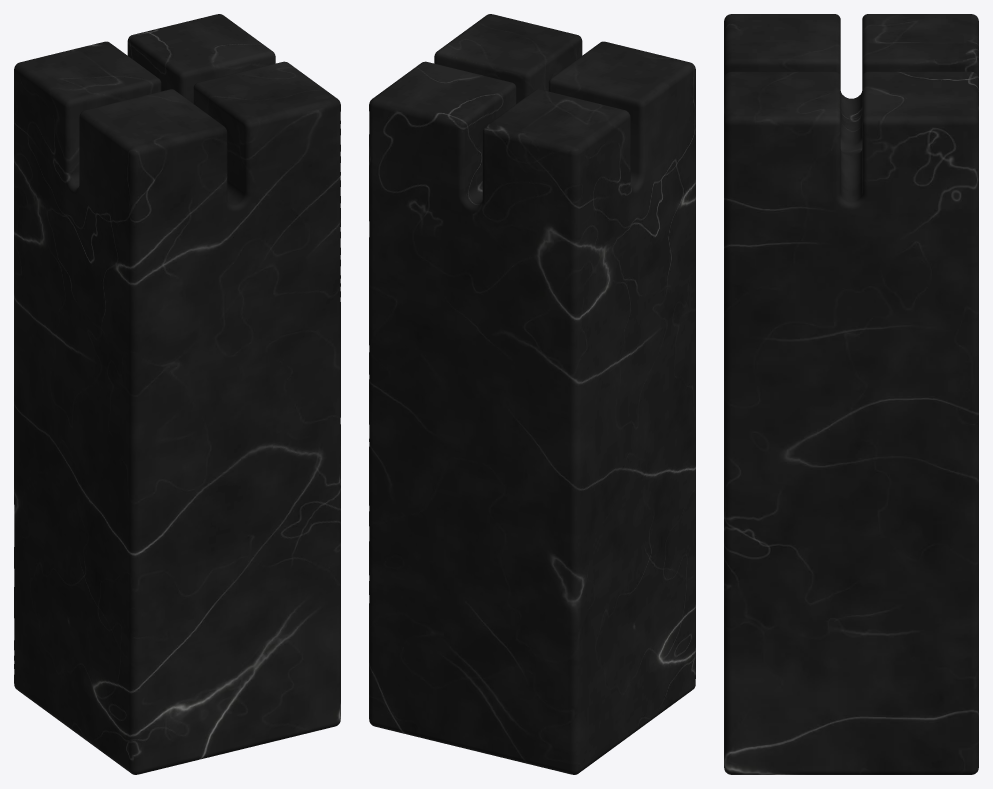
File: rook-black.glb
The picture shows the model from 3 angles, left to right: view 1: azimuth 30°, elevation 25°; view 2: azimuth 150°, elevation 25°; view 3: azimuth 270°, elevation 25°; orthographic projection. The views are drawn at different scales.
Visible parts, largest first — view 1: vez_cerny; view 2: vez_cerny; view 3: vez_cerny.
Boxes of the visible parts, box(x1,y1,x2,y2) form: vez_cerny: box(14, 14, 340, 774); vez_cerny: box(369, 14, 695, 774); vez_cerny: box(724, 14, 978, 774).
Bounding box in the file's own units: 0.4281 × 1.22 × 0.4281.
Materials: 1 (1 with a texture image).
